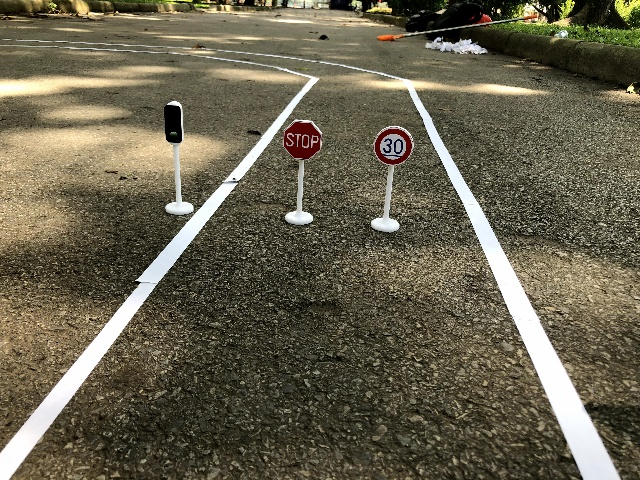Green Traffic Light: (158, 96, 191, 147)
Speed Limit 30: (369, 122, 418, 169)
Stop Sign: (280, 115, 327, 165)
